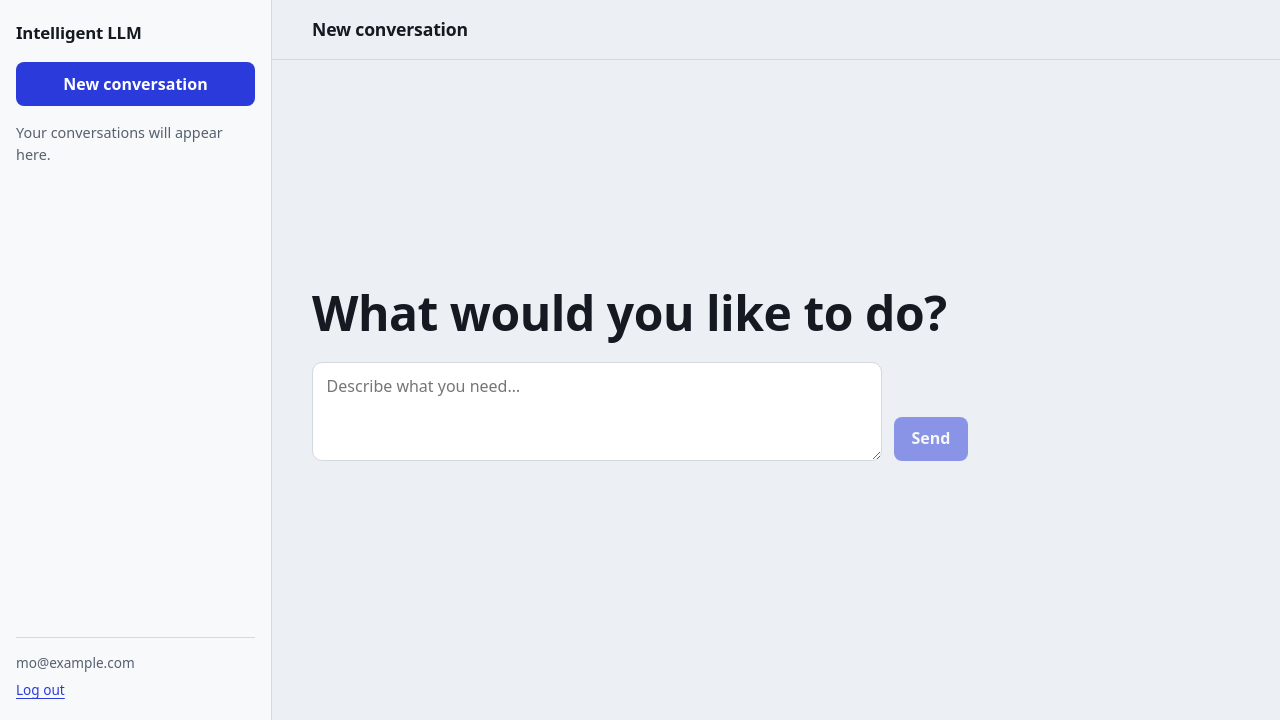
Scenario: chat › creates a conversation titled from the first message and sends it
This screenshot has width=1280, height=720.
In the text box named "Your request": (597, 411) [312,362,882,461], type "Help me prepare for an interview"
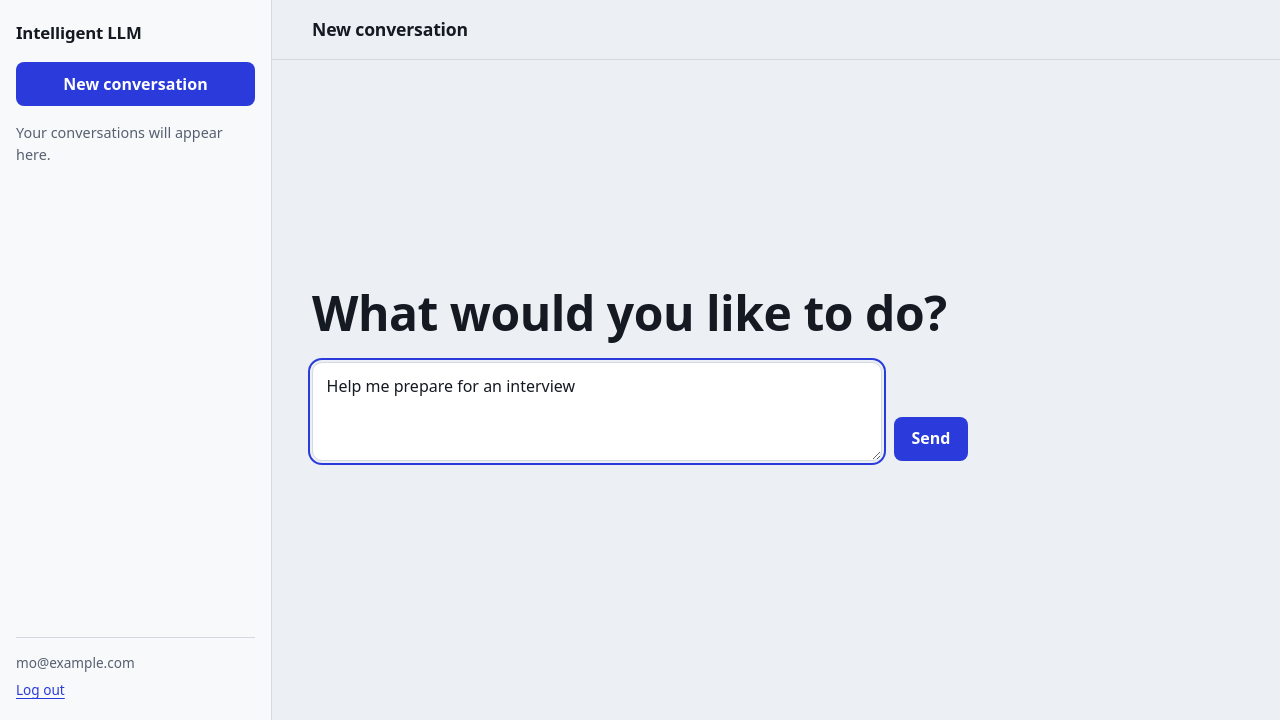
Click the button "Send": (931, 439) [894,417,968,461]
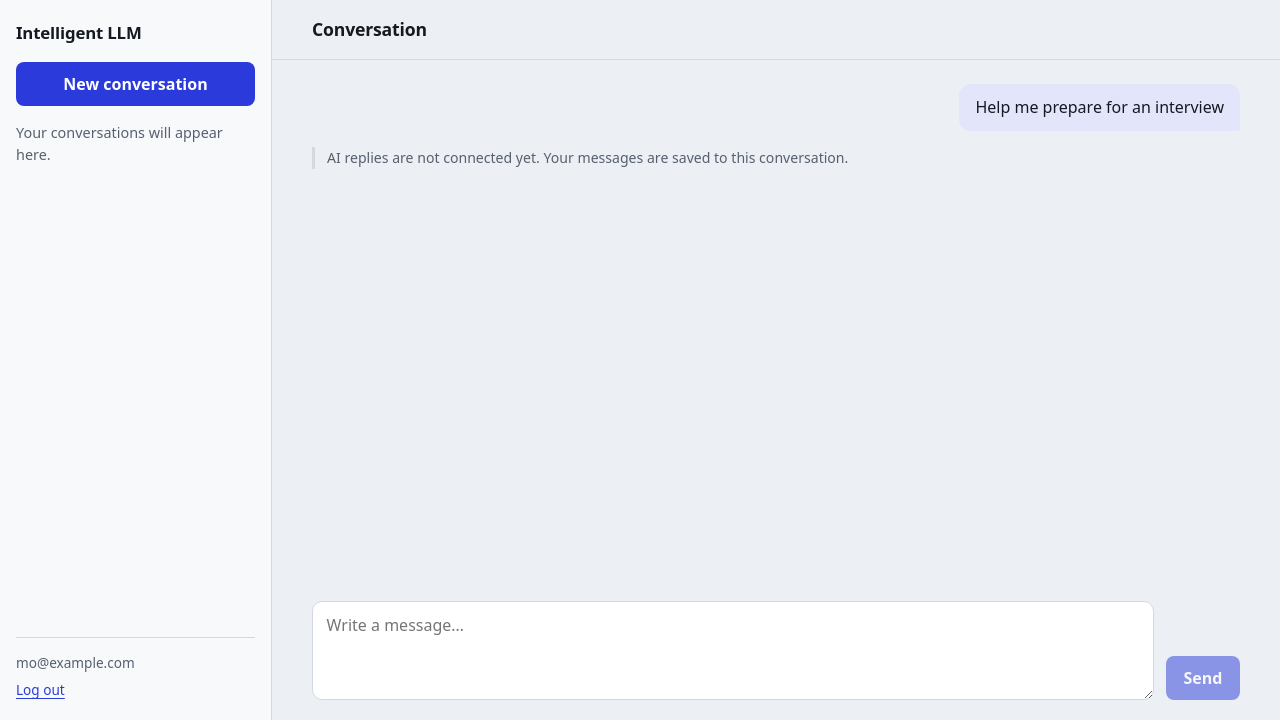
expect the text "AI replies are not connected yet" is shown: met, box [327,148,848,167]
